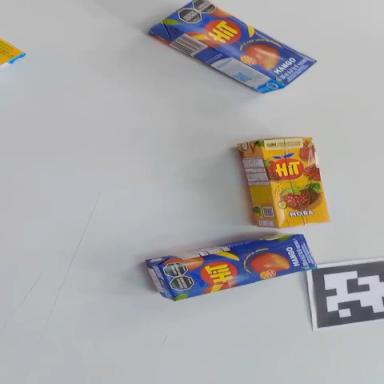HIT-MANGO: (147, 0, 316, 112), (145, 223, 316, 305)
HIT-MORA: (235, 127, 331, 238), (0, 39, 26, 75)
cara_F: (161, 0, 316, 99), (162, 232, 318, 303), (259, 129, 331, 234), (0, 37, 24, 67)
